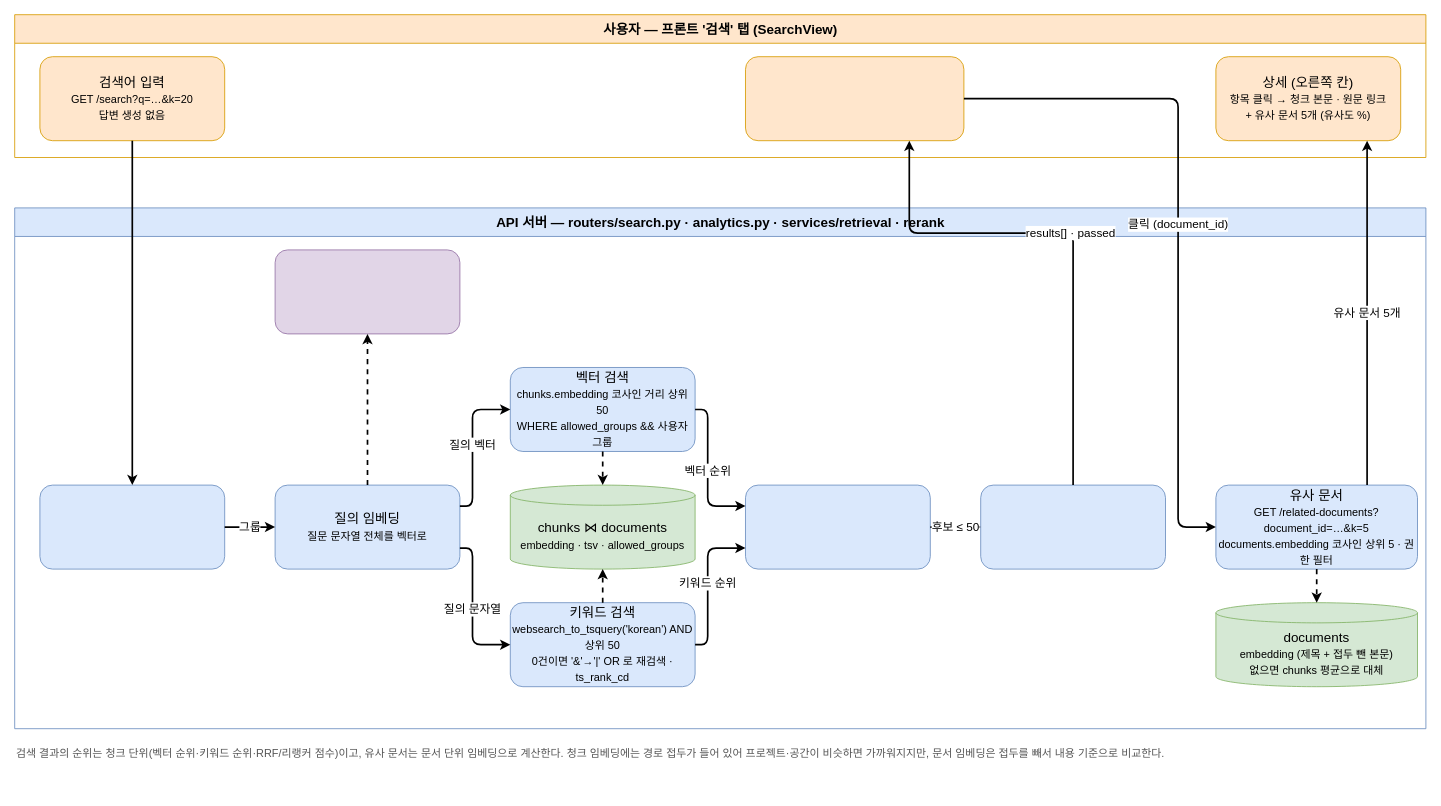
This 1441x806 diagram has some shape labels left out. The centre of each missing label's shape, as x and y in pixels:
RRF 합산 점수 = Σ 1/(60+순위) · 같은 청크는 합침 점수순 상위 50 후보: pixel 837 526
결과 목록 (왼쪽 칸) 청크 20개: 관련도 % 막대 · [의미 n위] [키워드 n위] 하한 미만이면 경고만 (결과는 그대로): pixel 854 98
리랭킹 질문과 같은 리랭커 · 상위 k=20 passed(1위 ≥ 하한) 플래그만 함께 반환: pixel 1073 526
사용자 식별 X-User-Id · X-User-Groups 헤더 개발 중: DEV_USER_GROUPS=* (전체 열람): pixel 132 526
임베딩 모델 OpenAI 호환 /embeddings 질의 1건: pixel 367 291
